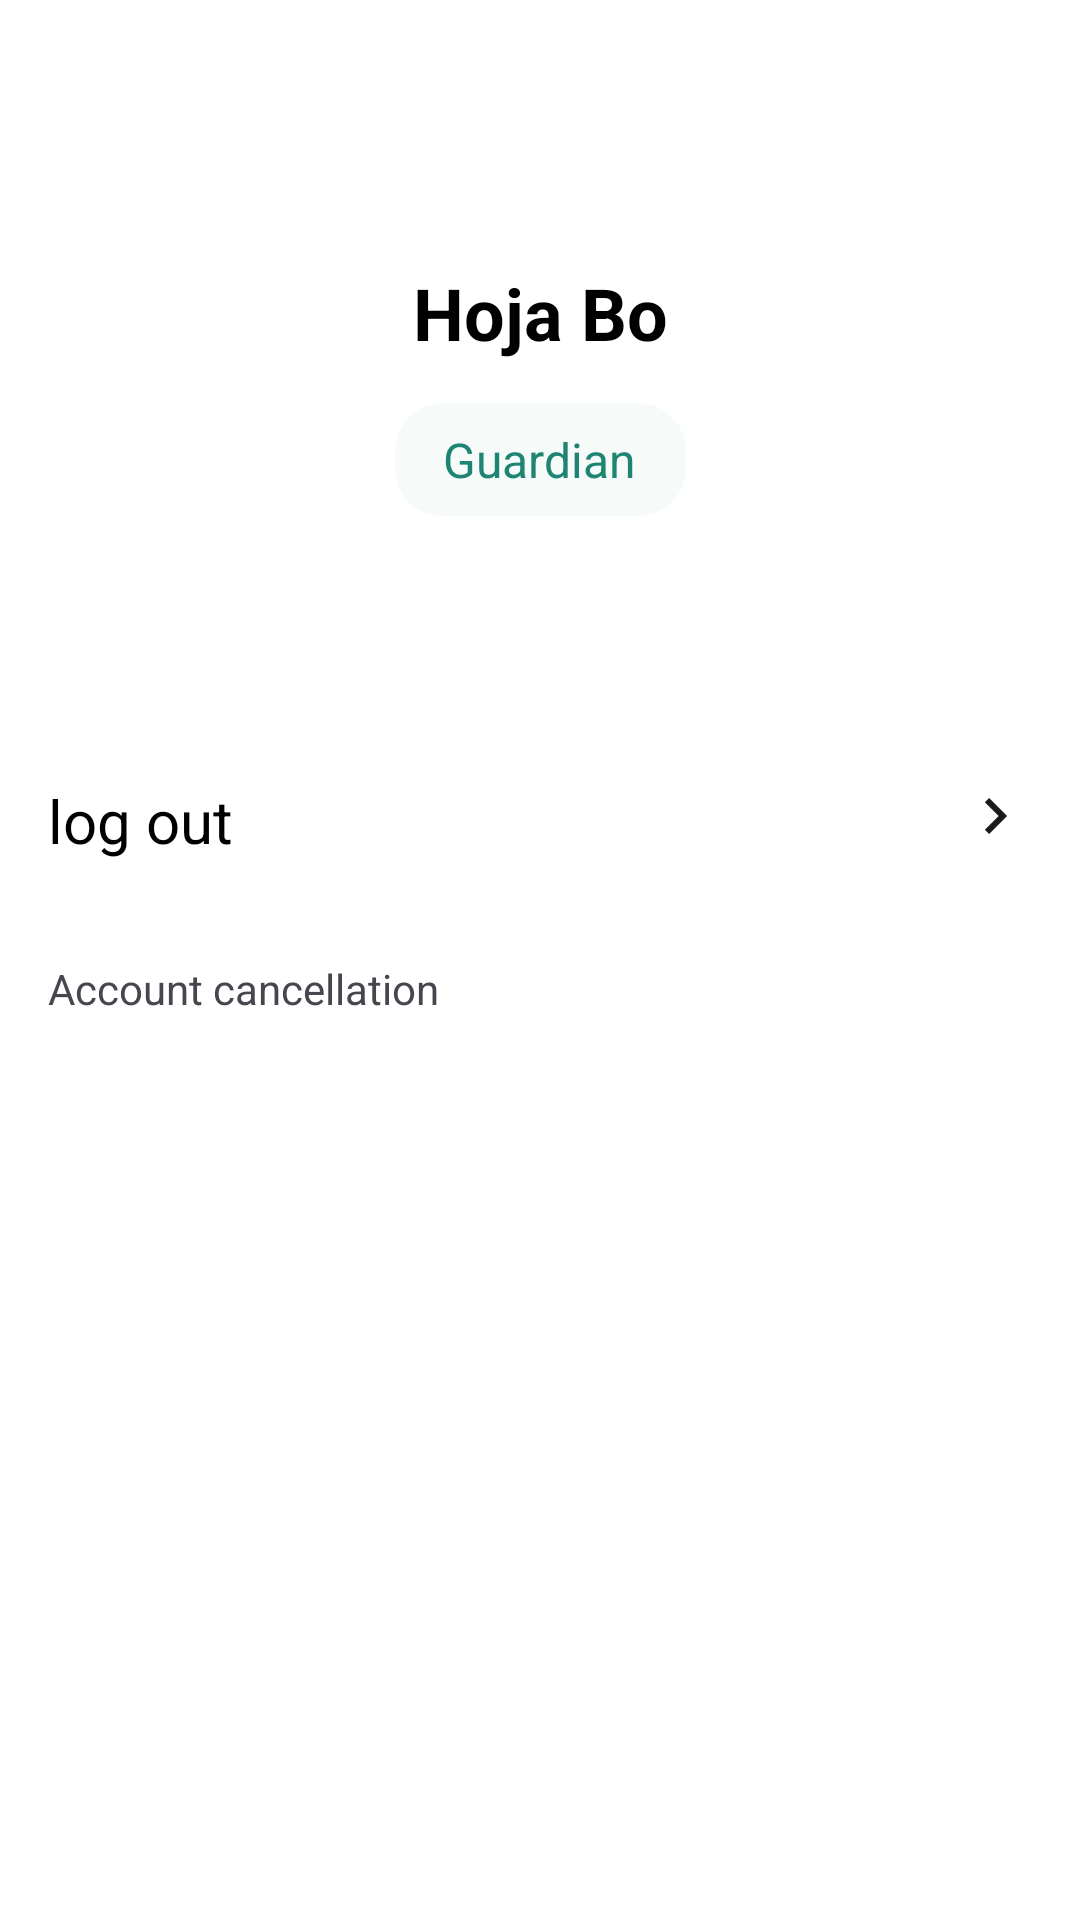

Icons on this 1080 x 1920 Android screen, each with its box as (x1, y1, x2, y2):
arrow: (985, 798, 1007, 834)
